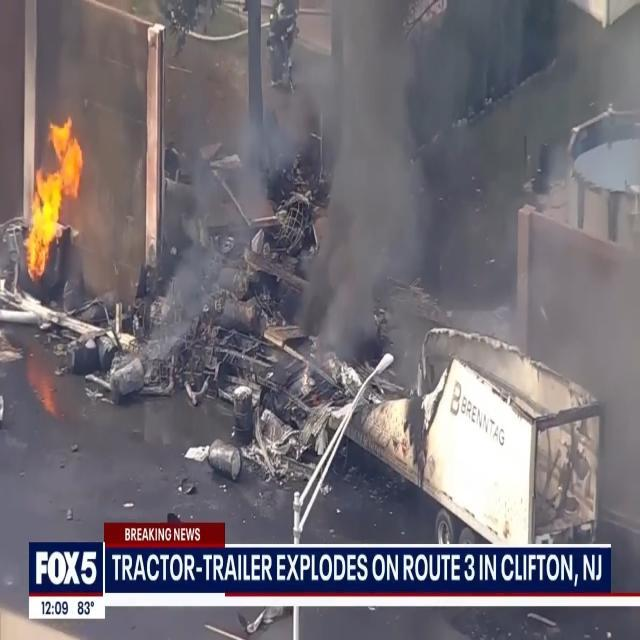fire: (21, 104, 83, 287)
